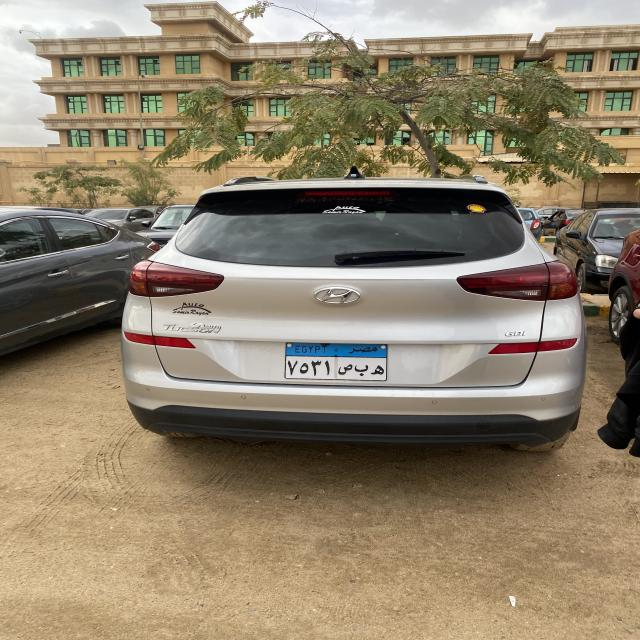License Plate: (285, 343, 389, 381)
